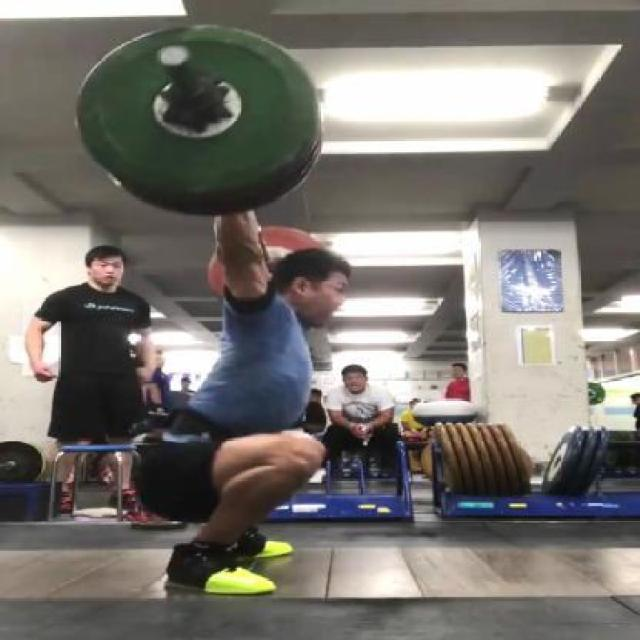barbell: (74, 18, 326, 216)
